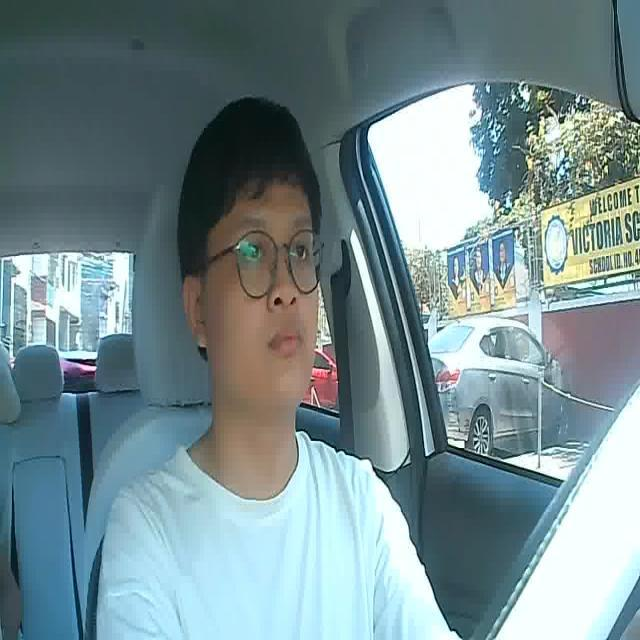Attentive: (177, 96, 321, 407)
Eye-Open: (288, 237, 314, 267), (237, 238, 262, 268)
Normal: (268, 322, 307, 357)
